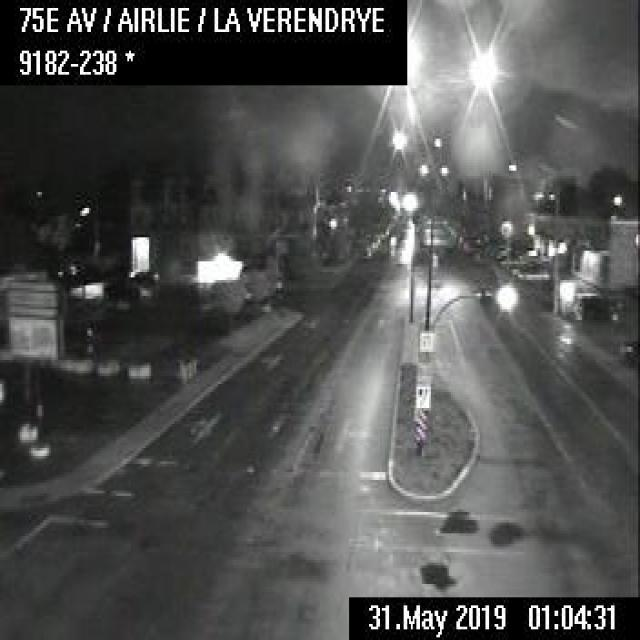vehicle: (572, 290, 624, 322)
